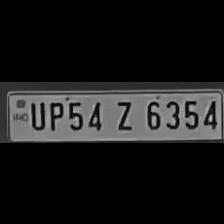3: (162, 96, 180, 130)
4: (84, 97, 106, 131), (200, 96, 220, 128)
5: (64, 97, 84, 131), (180, 96, 198, 130)
6: (139, 96, 161, 130)
P: (45, 98, 63, 132)
U: (27, 97, 45, 130)
Z: (109, 96, 135, 132)
